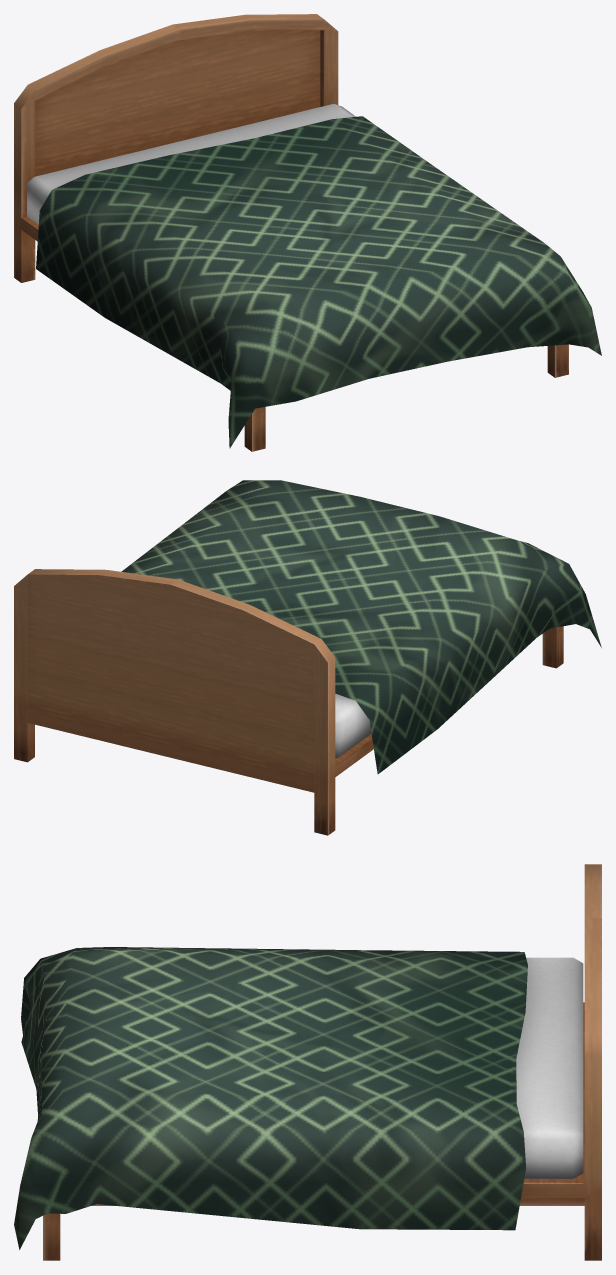
File: Lit.fbx
The picture shows the model from 3 angles, top to bottom: view 1: azimuth 30°, elevation 25°; view 2: azimuth 150°, elevation 25°; view 3: azimuth 270°, elevation 25°; orthographic projection. The views are drawn at different scales.
Visible parts, largest first — view 1: Lit; view 2: Lit; view 3: Lit.
Boxes of the visible parts, left/top/right/bottom form: Lit: left=14, top=14, right=601, bottom=451; Lit: left=14, top=480, right=601, bottom=835; Lit: left=14, top=864, right=601, bottom=1260.
Bounding box in the file's own units: 5.35 × 6.25 × 2.96.
